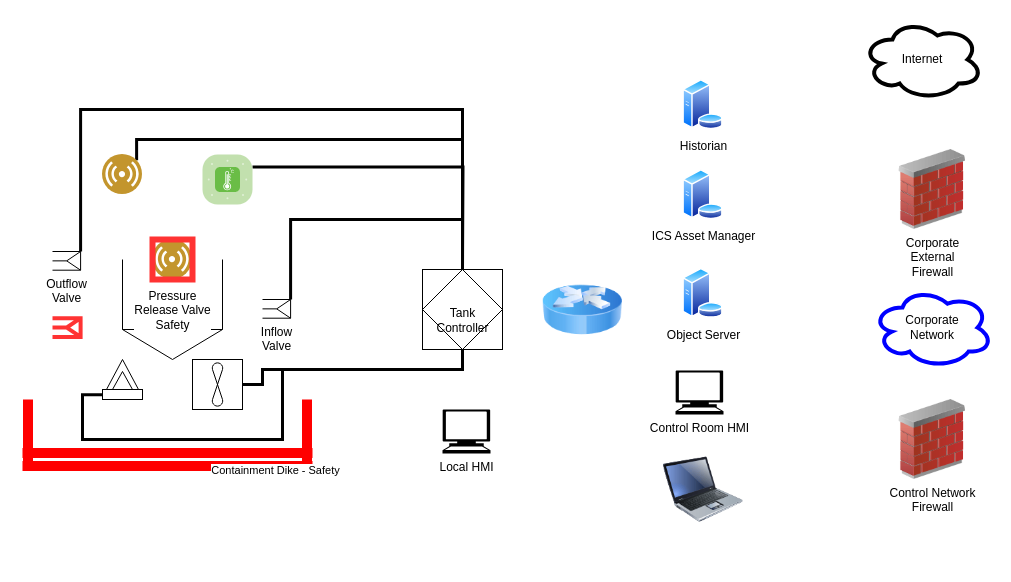
Image size: 1011x582. Some labels were removed from this diagram. The shapes that lost their labels are listed below. From the top down, each one's centre as x and y in pixels, then its label:
the point at 122,174: Pressure Sensor
the point at 227,179: Temperature Sensor
the point at 66,327: Manual Valve Safety
the point at 582,310: Layer 2 Switch
the point at 122,379: Burner
the point at 217,384: Mixer
the point at 703,489: Engineer Workstation
